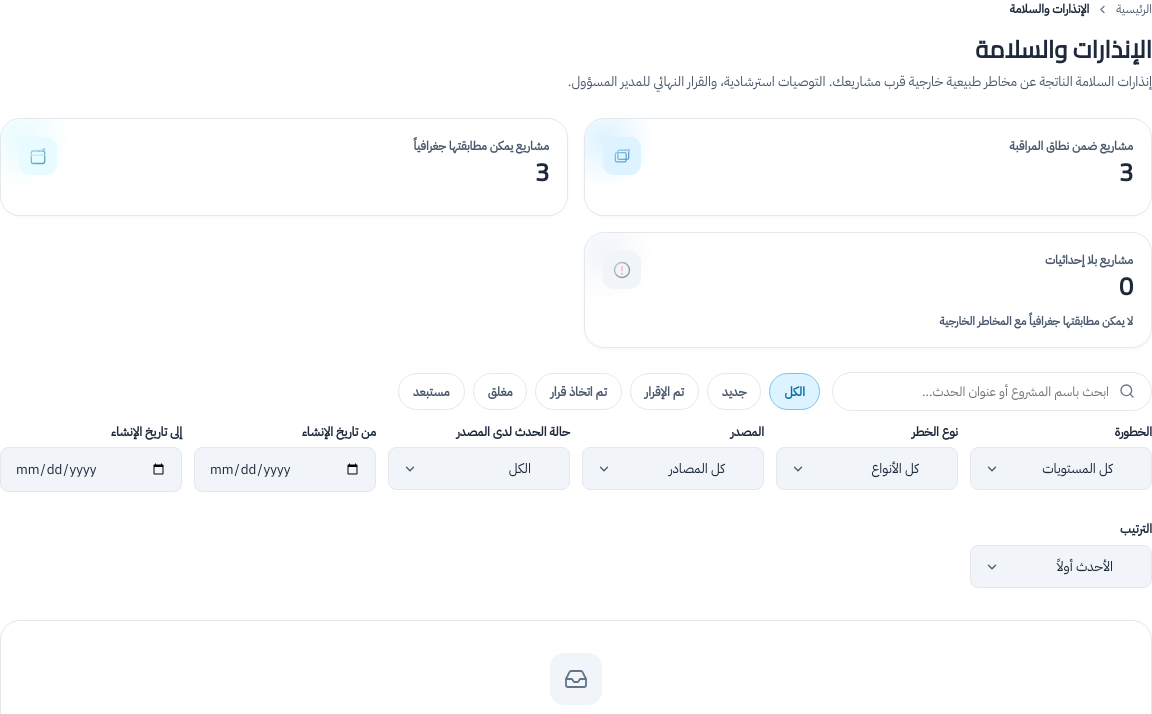
Scenario: SafetyAlertsPage › distinguishes an empty scope from no matches without implying safety
Select "حرجة" in the dropdown labelled "الخطورة". click: [1061, 469]
box: [970, 447, 1151, 490]
(page scrolled)
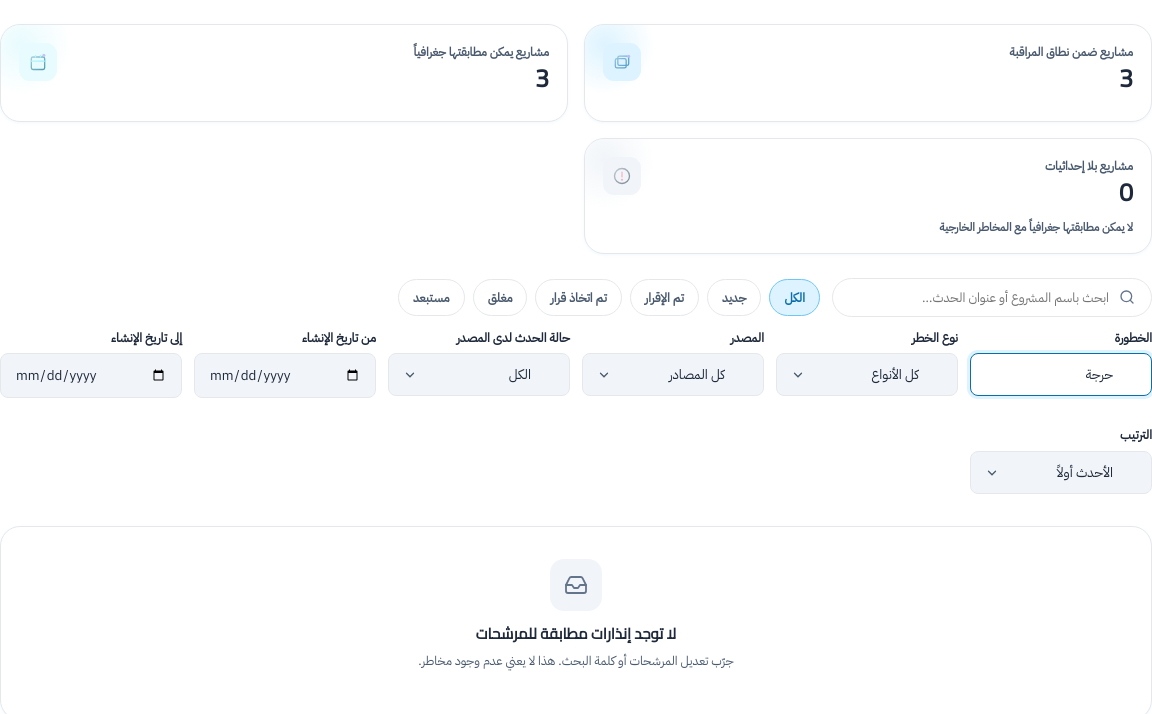
Now the heading "لا توجد إنذارات مطابقة للمرشحات" is shown, box [476, 619, 676, 648]
